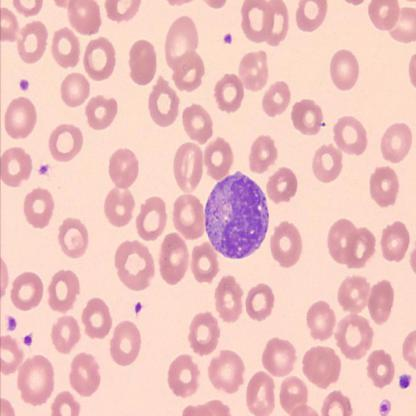Metamyelocyte: (203, 165, 271, 262)
